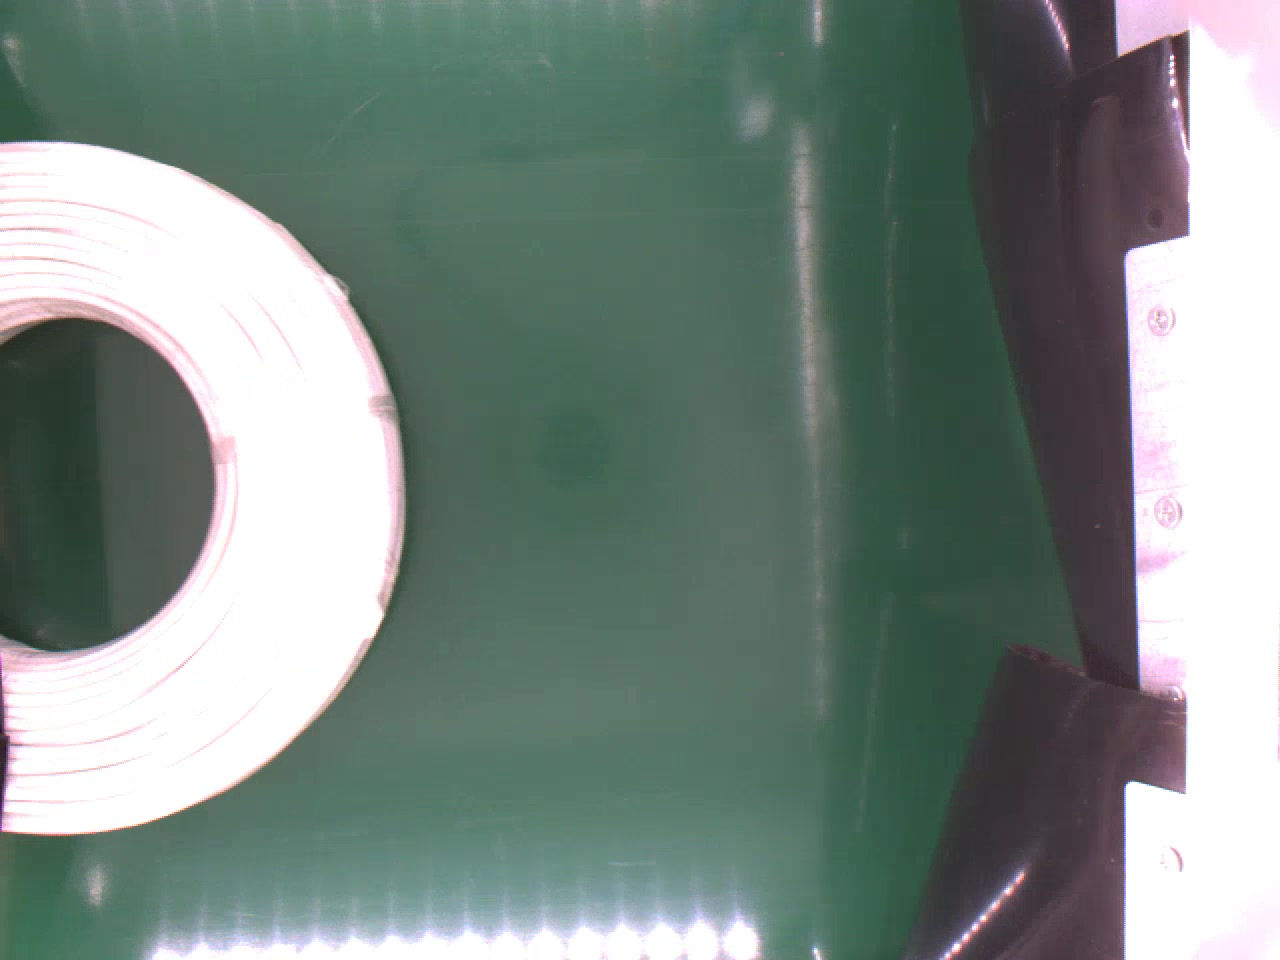white: (0, 138, 406, 843)
